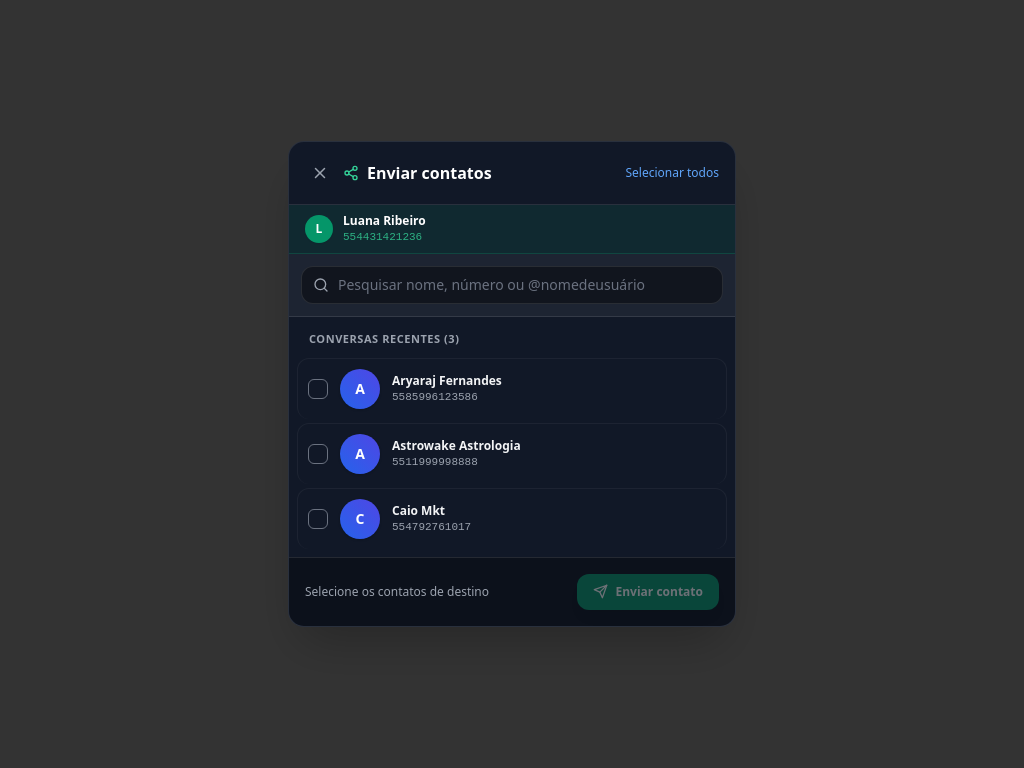
ShareContactModal › seleciona e desseleciona contatos e atualiza o contador do botão
Expected: the button "Enviar contato" is disabled, [576,574,719,610]
Note: Clica no contato Aryaraj Fernandes
Click the text "Aryaraj Fernandes" at {"x": 512, "y": 388}, box [297,358,727,419]
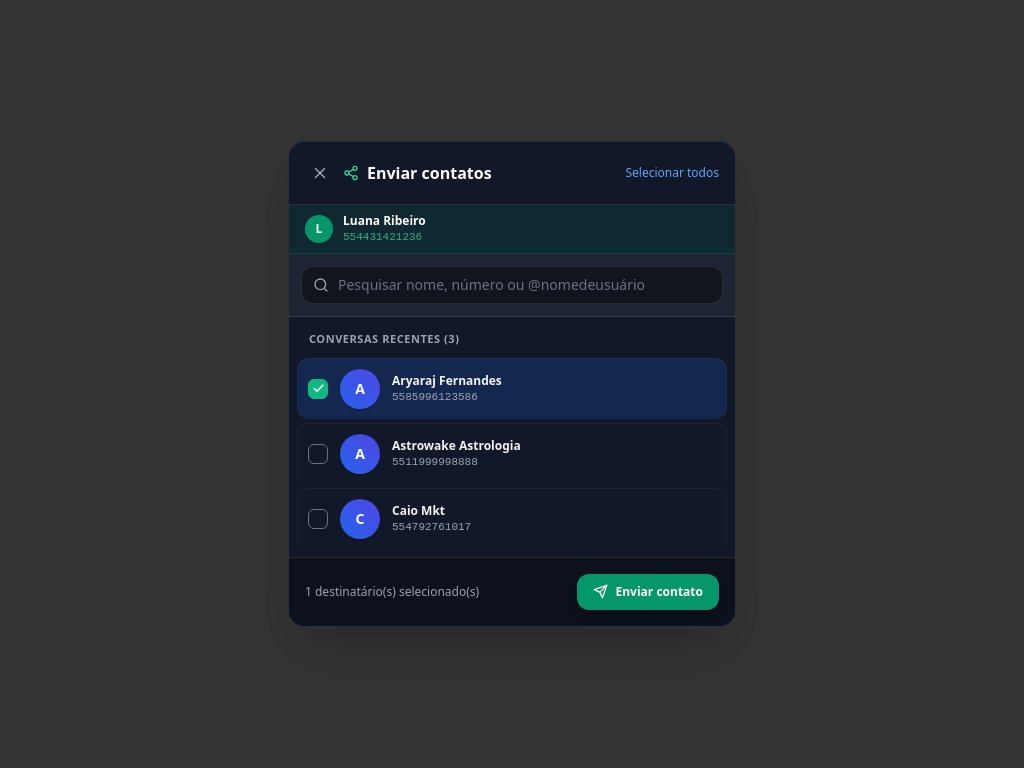
Now the text "1 destinatário(s) selecionado(s)" is shown, box [305,584,479,600]
Now the button "Enviar contato" is enabled, box [576,574,719,610]
Note: Clica em Caio Mkt
Click the text "Caio Mkt" at {"x": 512, "y": 518}, box [297,488,727,549]
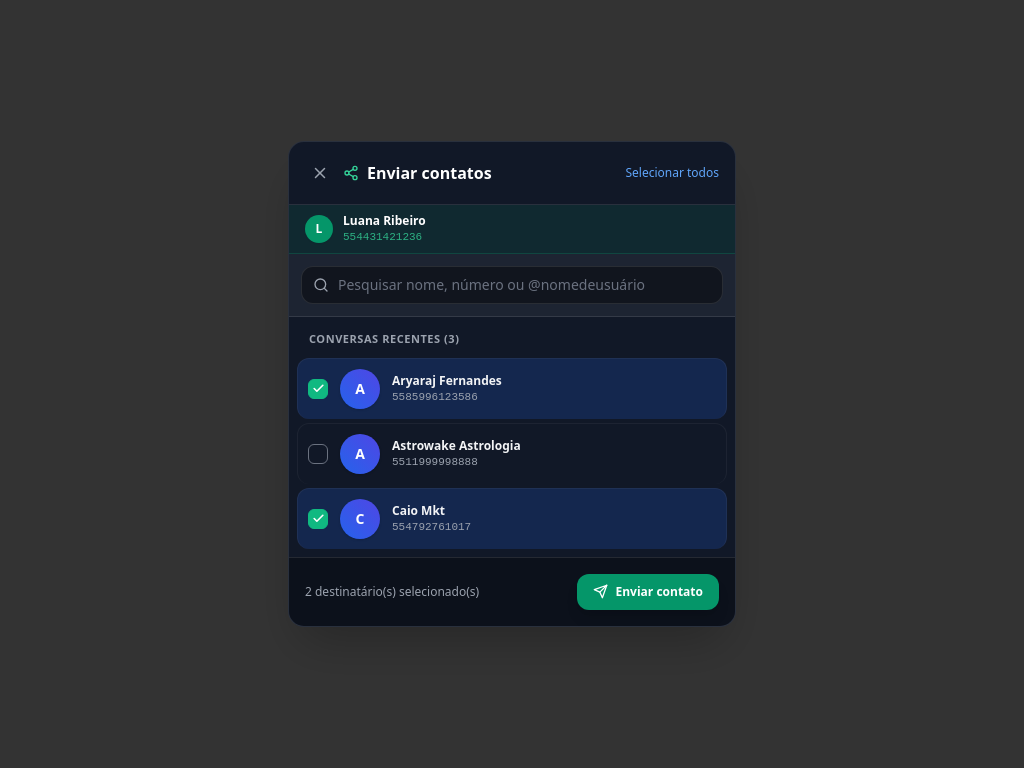
Now the text "2 destinatário(s) selecionado(s)" is shown, box [305,584,479,600]
Note: Desseleciona Aryaraj
Click the text "Aryaraj Fernandes" at {"x": 512, "y": 388}, box [297,358,727,419]
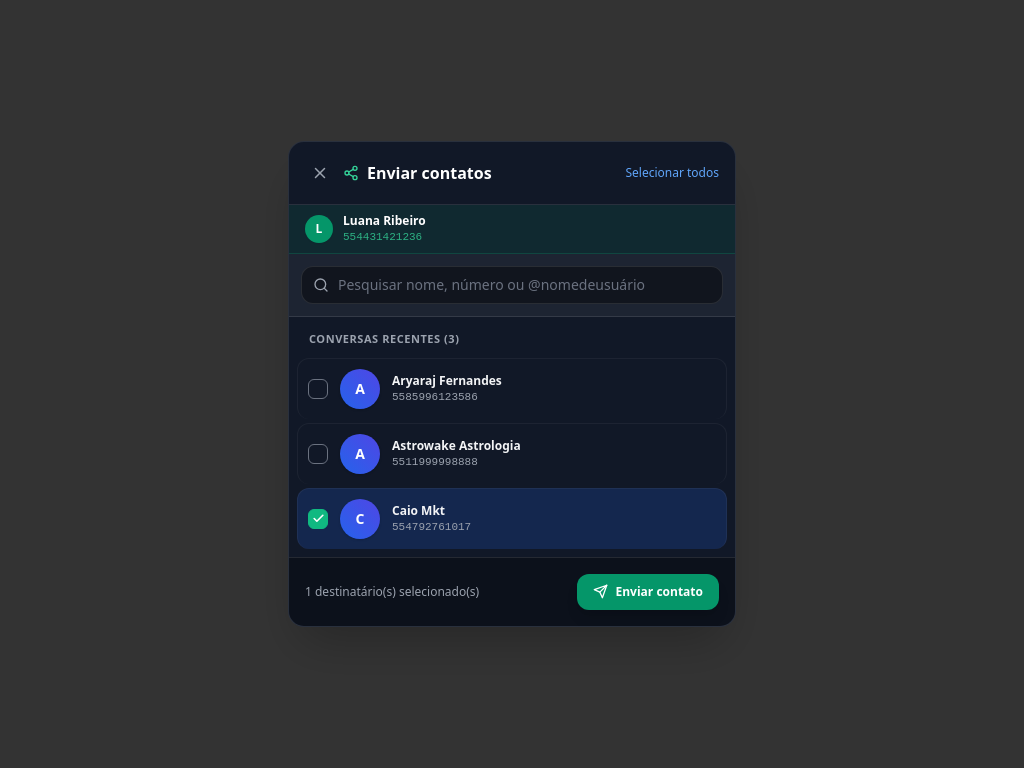
Now the text "1 destinatário(s) selecionado(s)" is shown, box [305,584,479,600]
